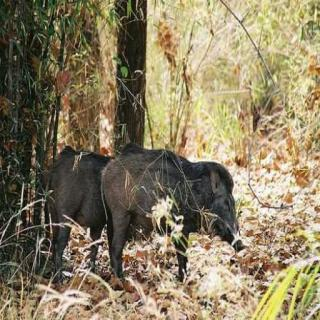Pig: (91, 142, 270, 282)
